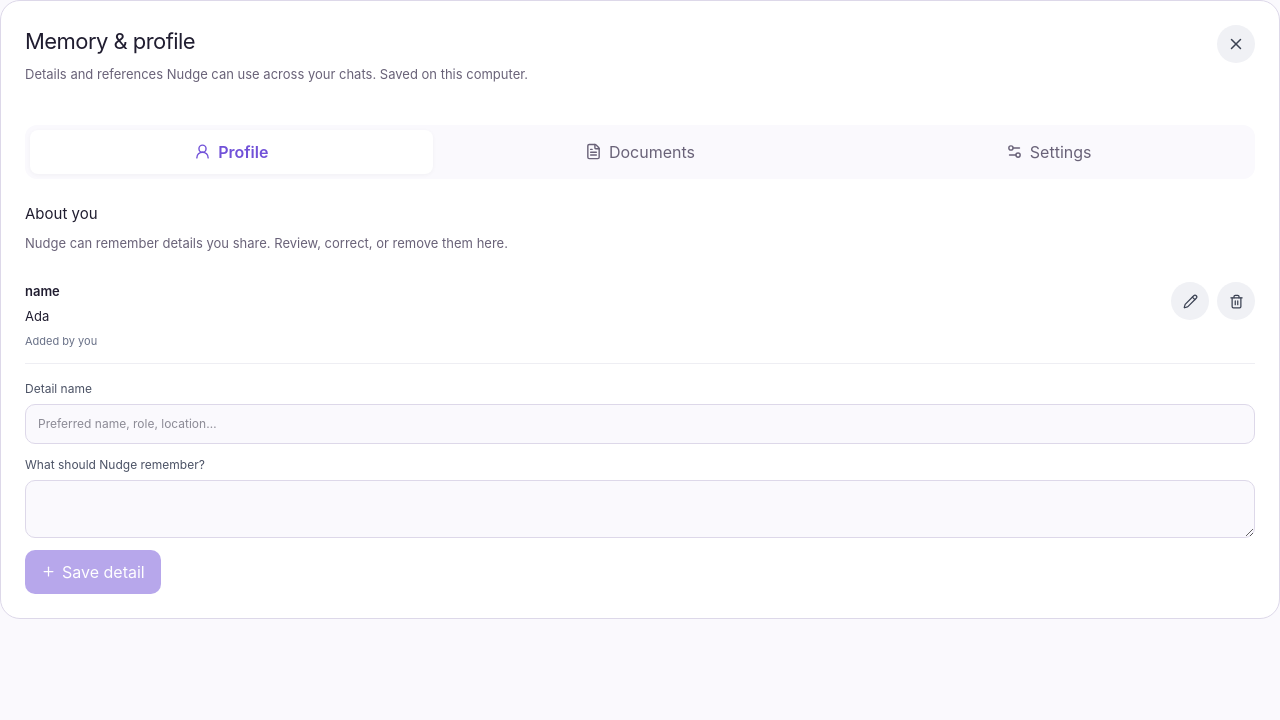
Test: stops older-chat cleanup on a rejected failure and shows the problem
Click the tab "Settings": (1049, 152) [847,130,1250,174]
(page scrolled)
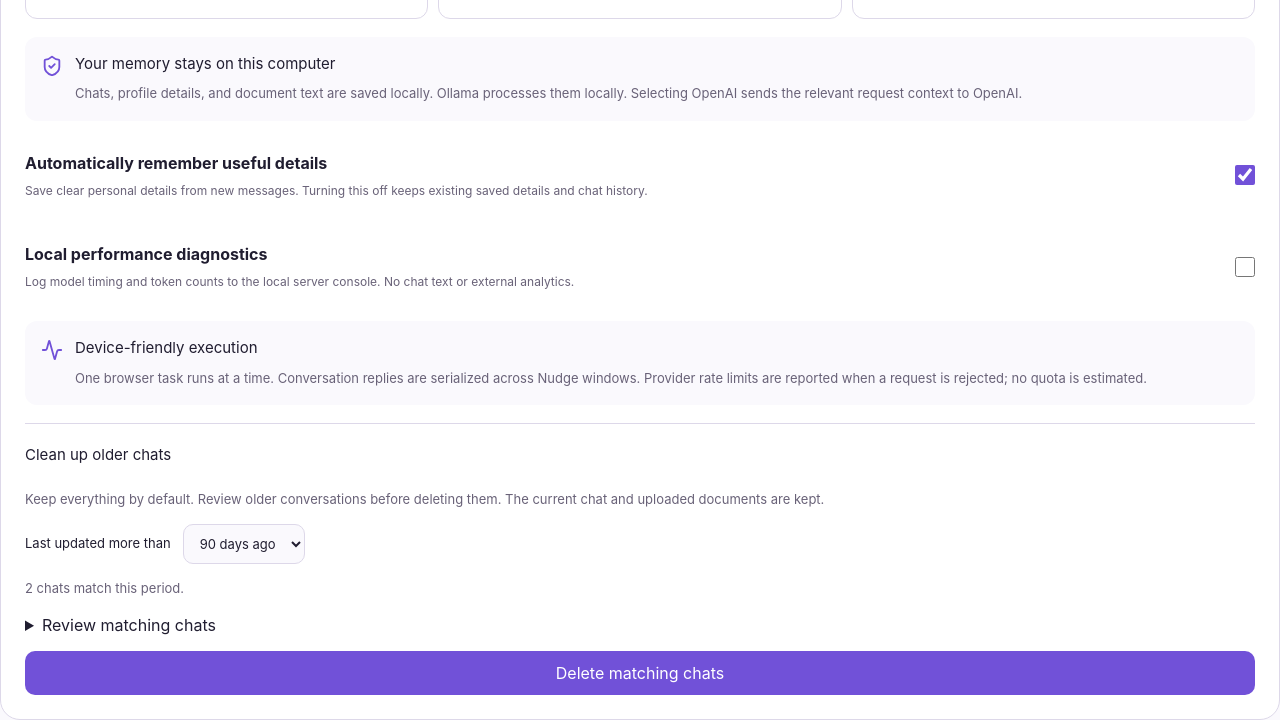
Expected: the switch labelled "Automatically remember" is enabled, [1235,165,1255,185]
Click the button "Delete matching chats": (640, 673) [25,651,1255,695]
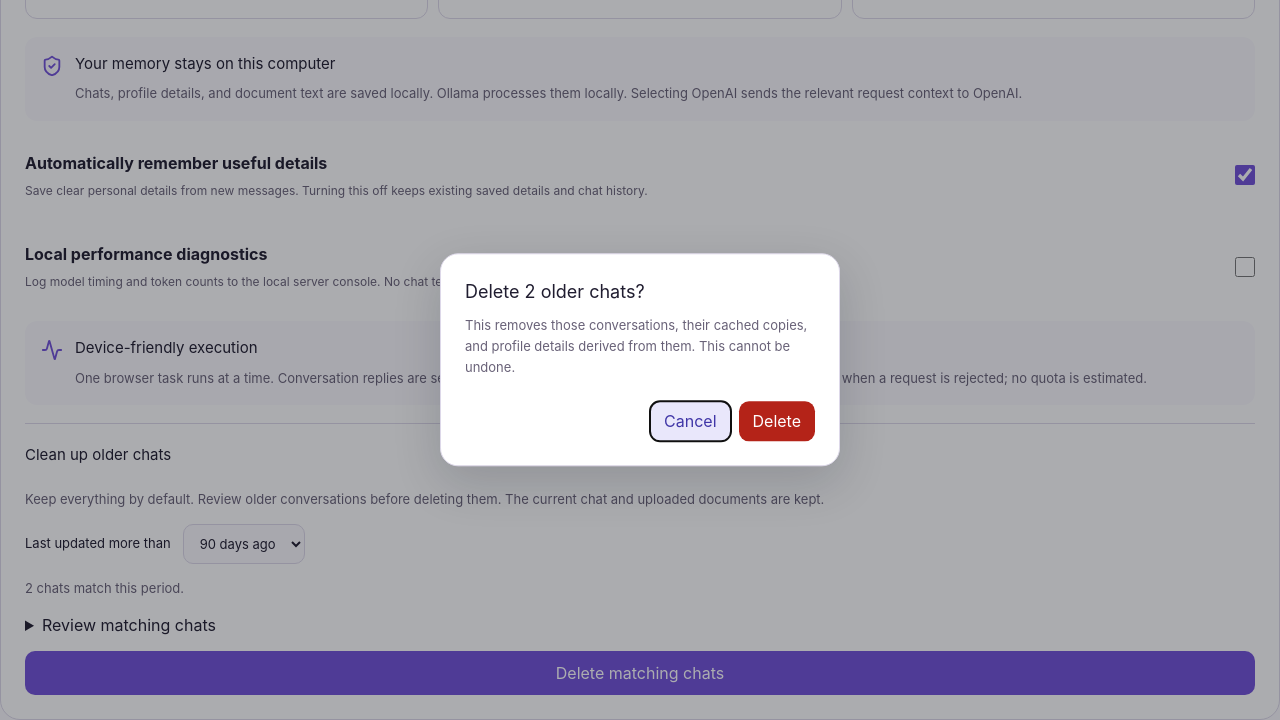
Click the button "Delete": (777, 422) [738,402,815,442]
(page scrolled)
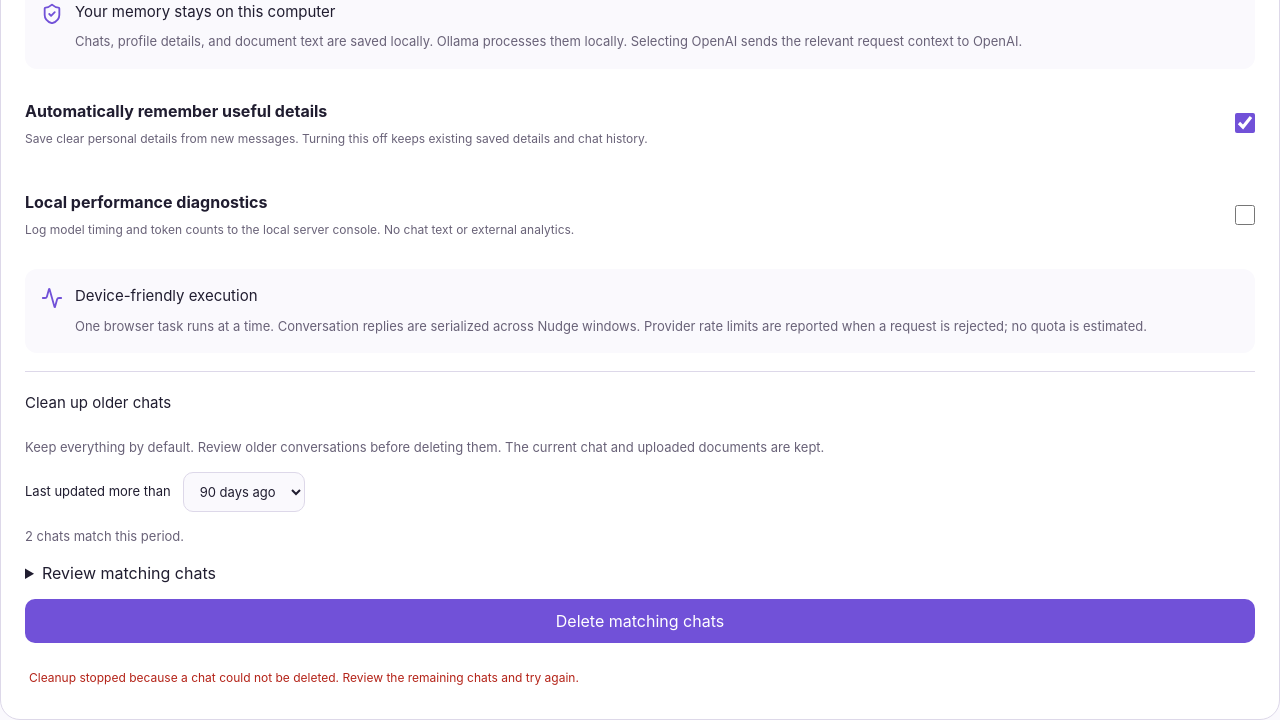
Expected: the message shows "Cleanup stopped", [29,670,579,685]
